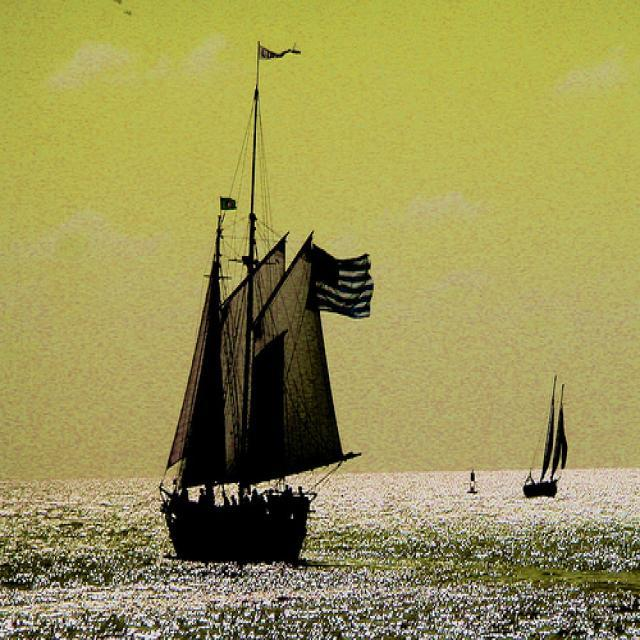Ship: (170, 41, 322, 576), (504, 363, 579, 501)
